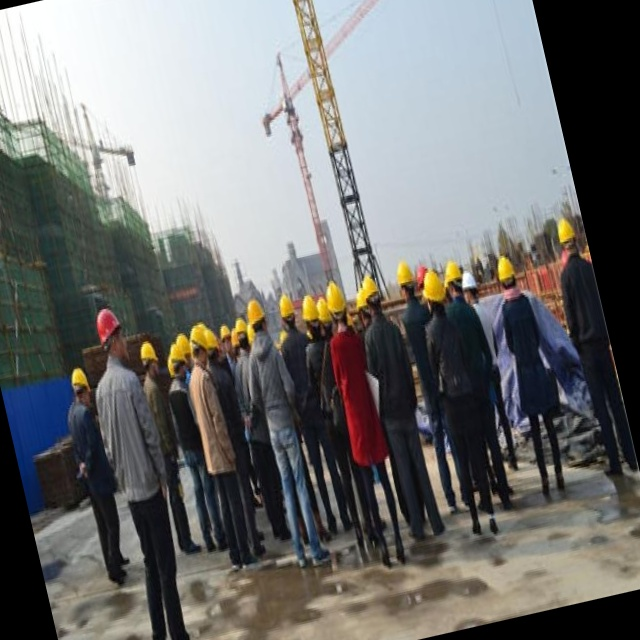Con_Casco: (93, 304, 129, 365), (417, 268, 447, 313), (69, 367, 95, 413), (494, 252, 519, 297), (553, 215, 580, 256)
